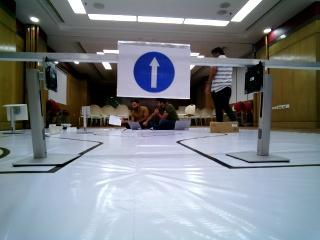straight: (117, 42, 192, 98)
